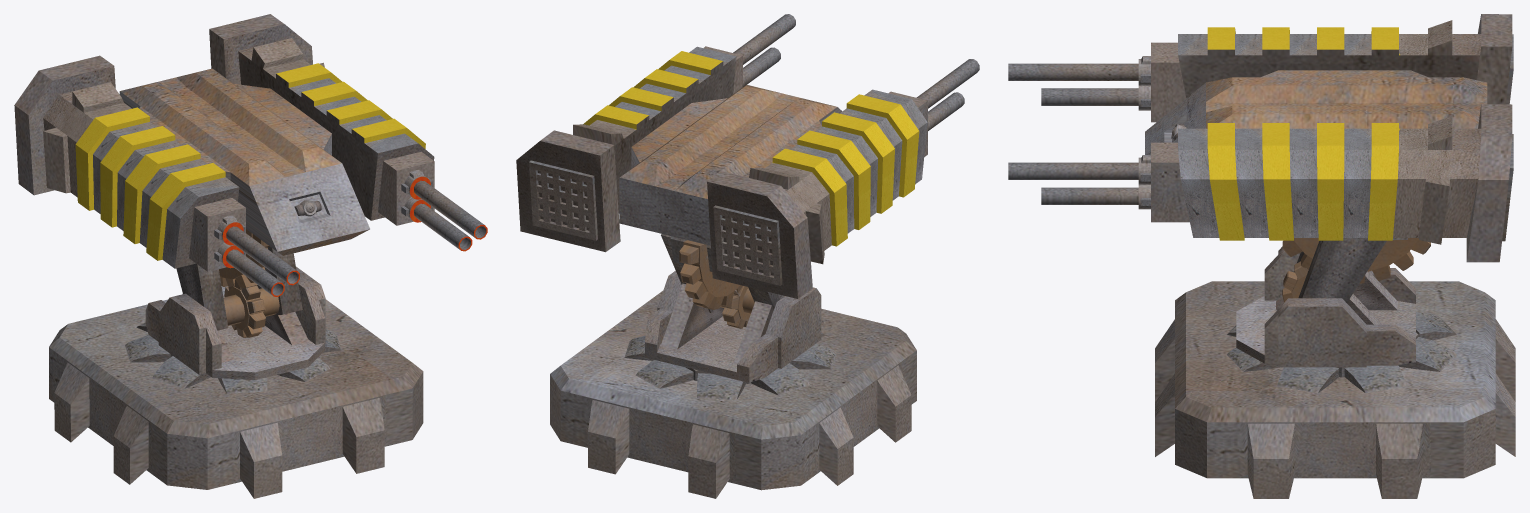
File: LazerTowerMod.fbx
The picture shows the model from 3 angles, left to right: view 1: azimuth 30°, elevation 25°; view 2: azimuth 150°, elevation 25°; view 3: azimuth 270°, elevation 25°; orthographic projection. The views are drawn at different scales.
Visible parts, largest first — view 1: turr, turr1_platform, rotate; view 2: turr, turr1_platform, rotate; view 3: turr, turr1_platform, rotate.
Part boxes in pixels (x1=…): turr: x1=14, y1=14, x2=487, y2=296; turr1_platform: x1=49, y1=286, x2=423, y2=498; rotate: x1=145, y1=247, x2=325, y2=379; turr: x1=516, y1=14, x2=979, y2=309; turr1_platform: x1=550, y1=291, x2=916, y2=498; rotate: x1=645, y1=234, x2=821, y2=382; turr: x1=1008, y1=14, x2=1513, y2=283; turr1_platform: x1=1155, y1=281, x2=1515, y2=498; rotate: x1=1236, y1=238, x2=1415, y2=367.
Bounding box in the file's own units: 170 × 181 × 240.
1 material, 1 textured.
